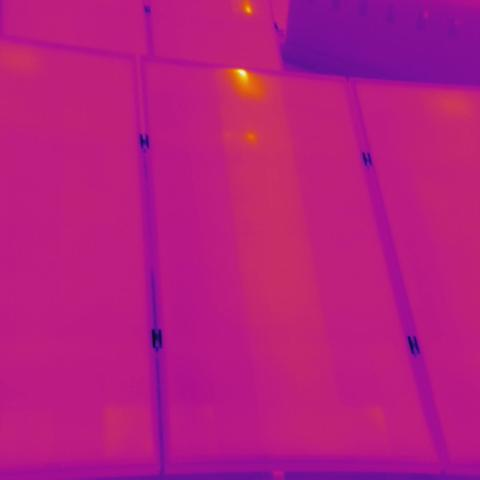fault: (231, 66, 254, 88), (239, 2, 260, 16)
